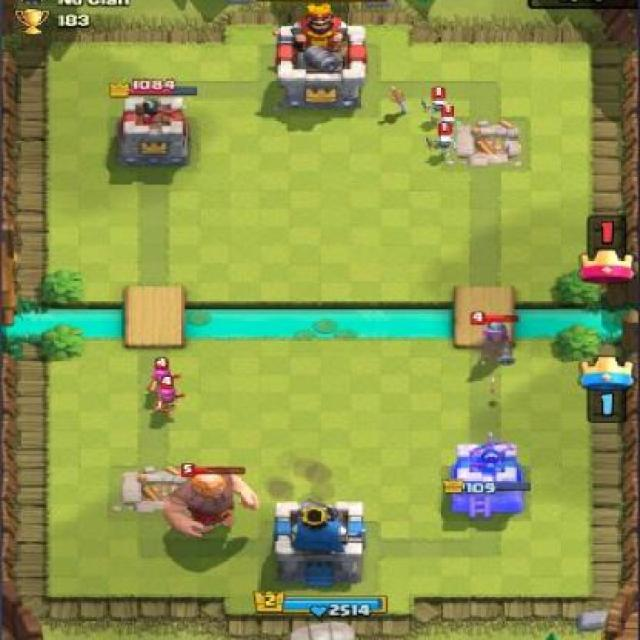Enemy-Archer: (142, 355, 181, 399), (148, 376, 185, 418)
Enemy-Giant: (157, 459, 266, 543)
Enemy-Musketeer: (468, 308, 523, 368)
Enemy-Skeleton: (422, 120, 462, 168), (417, 84, 454, 121), (429, 105, 466, 142)
